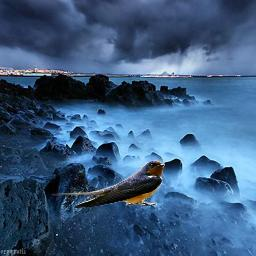Swallow: (51, 159, 165, 208)
